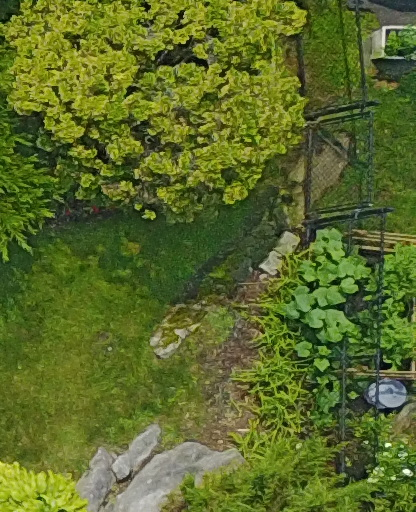container: (366, 364, 415, 417)
